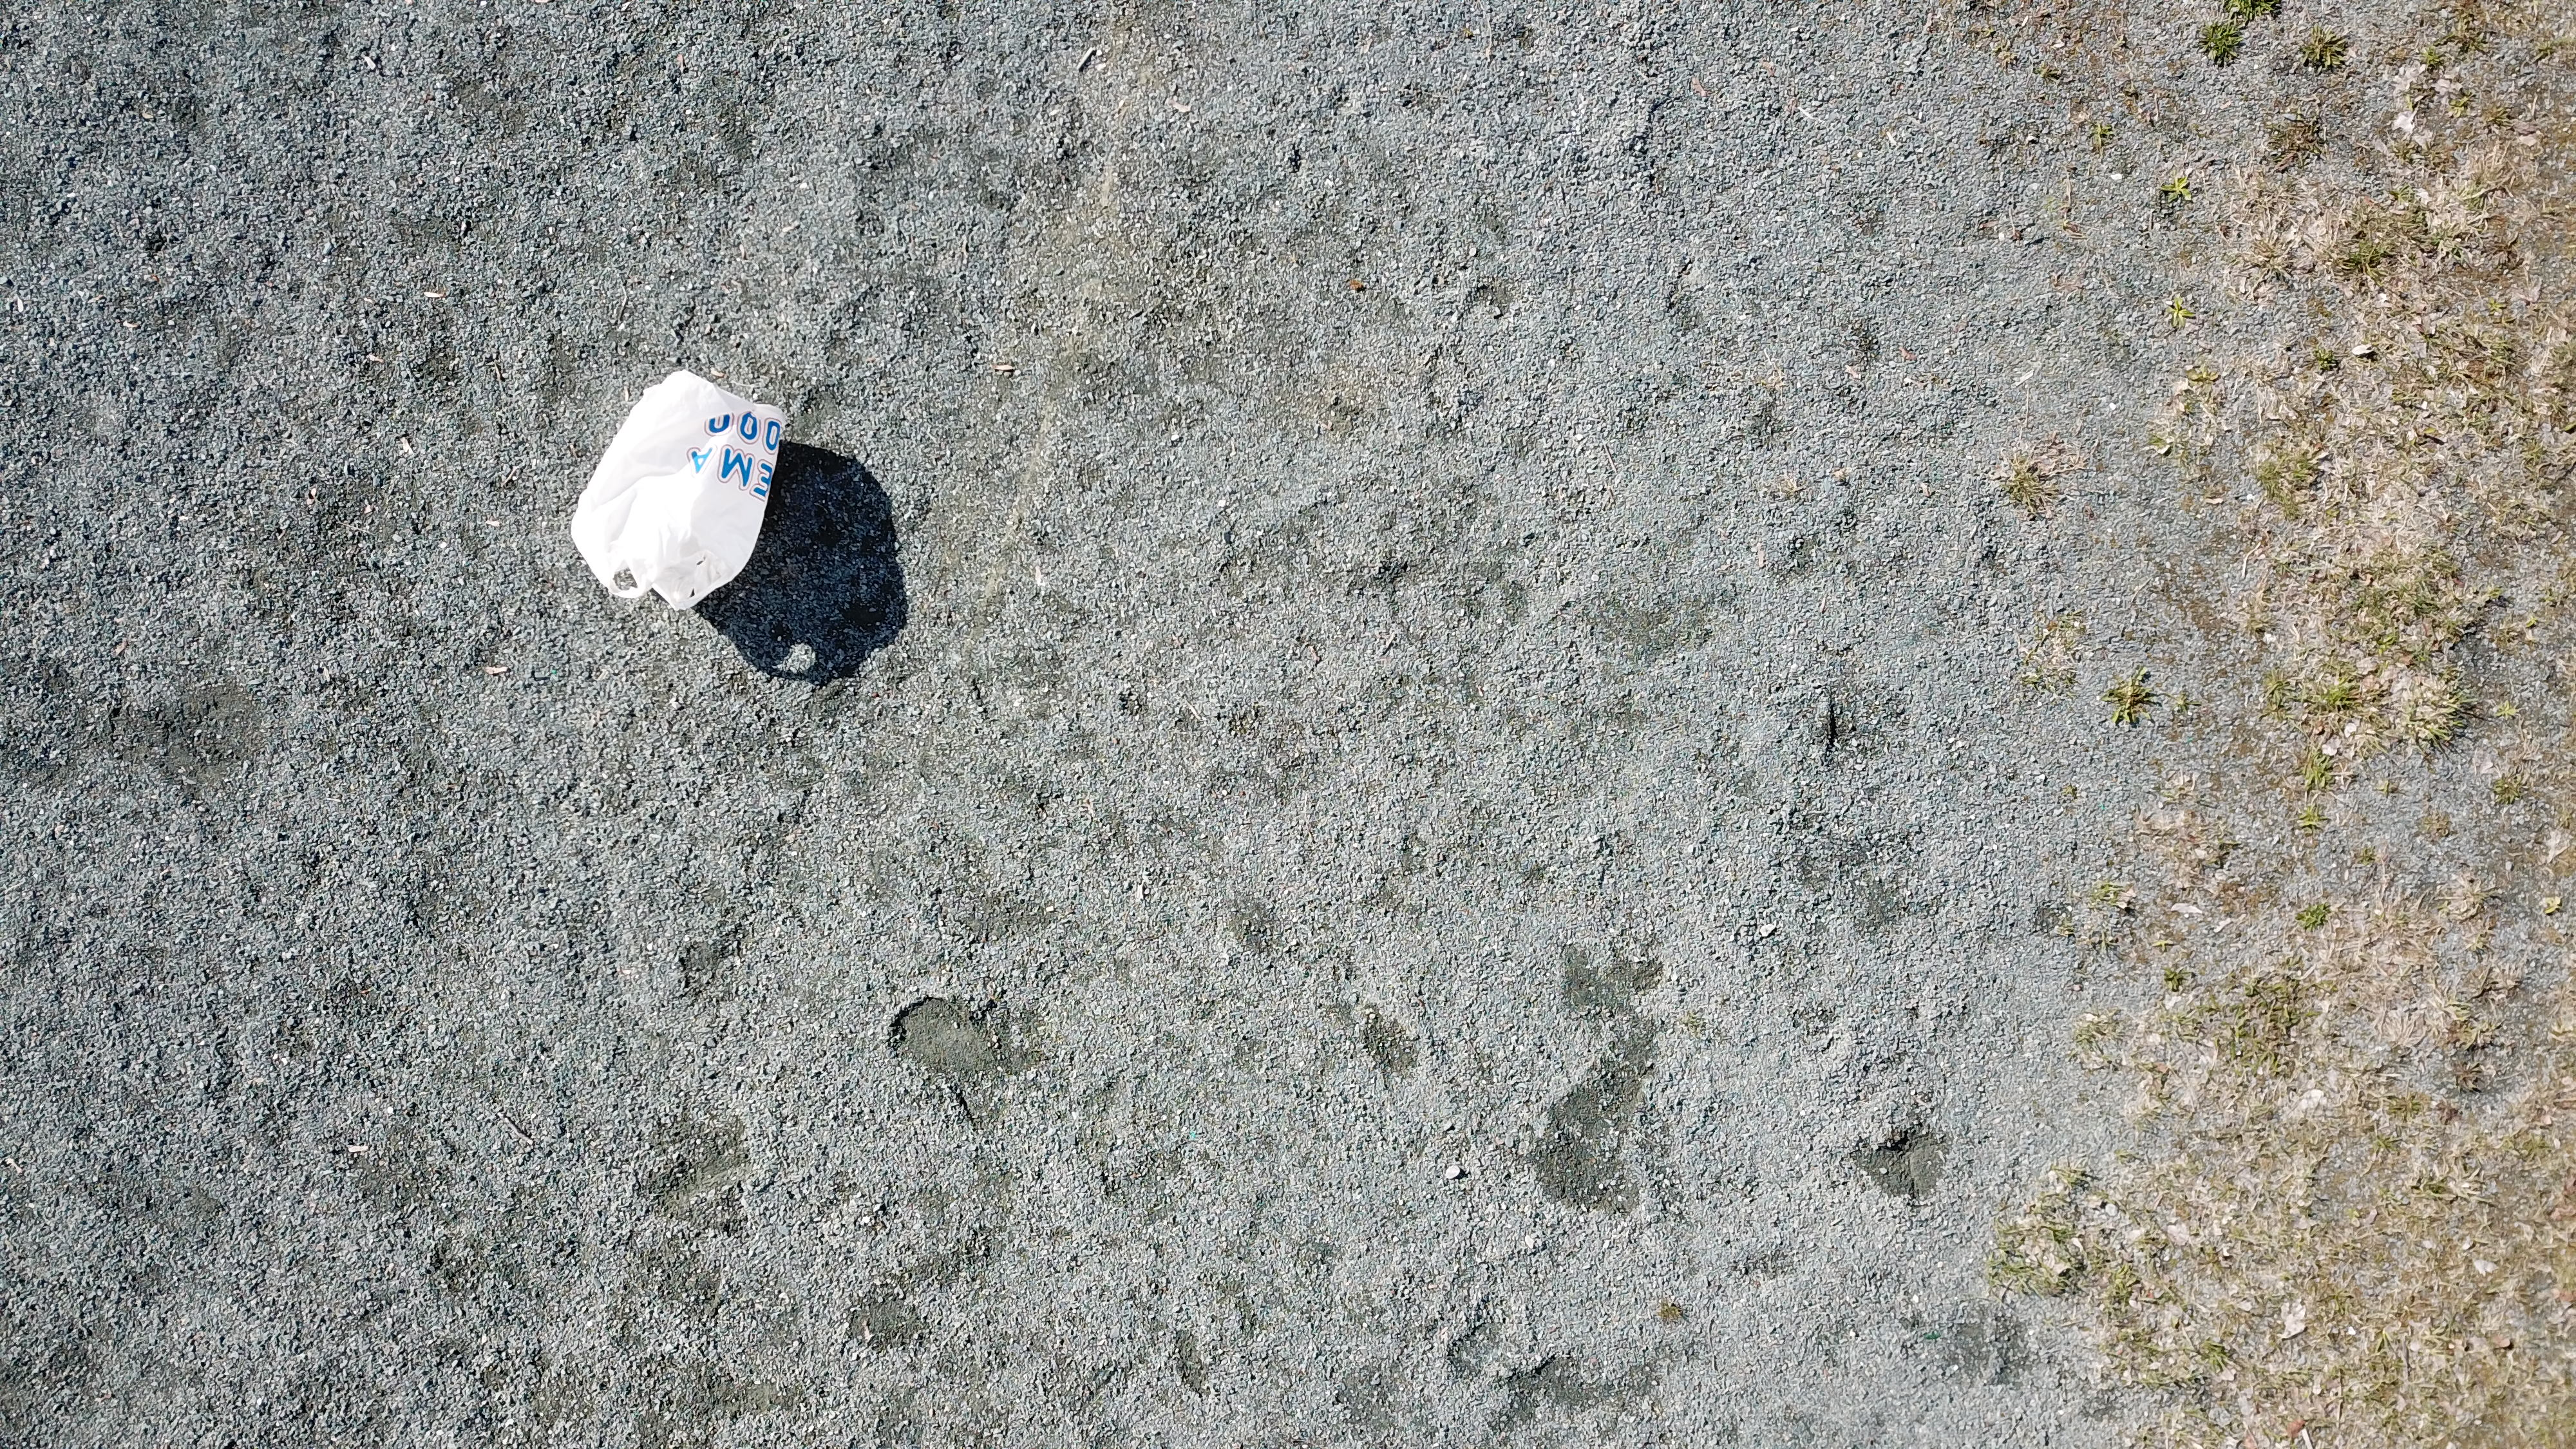Plastic: (573, 359, 786, 605)
